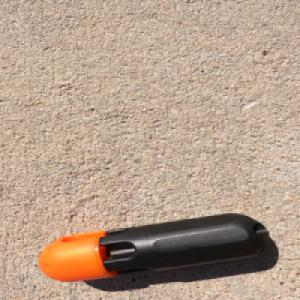PlasticPart: (37, 212, 272, 282)
